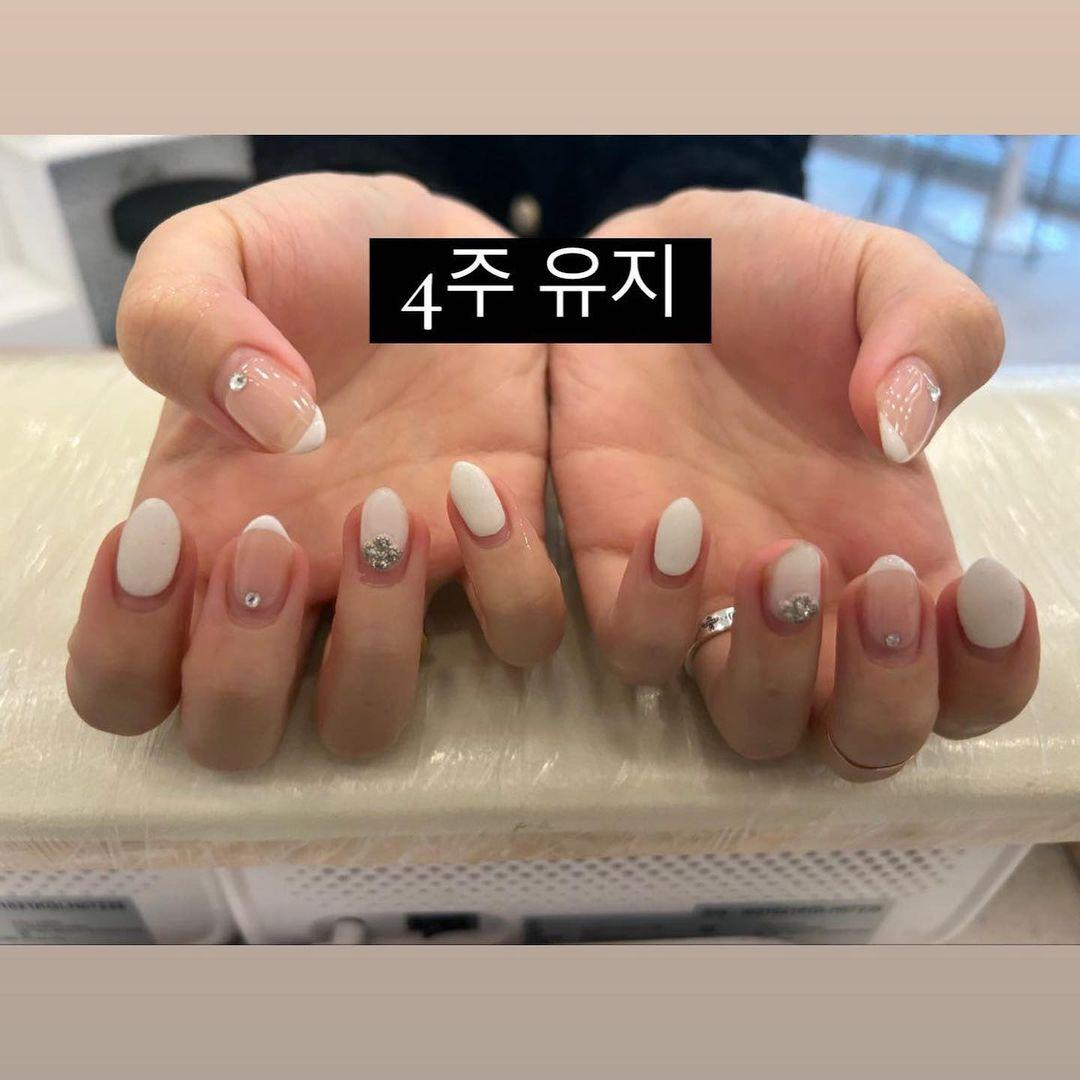nail: (212, 345, 326, 455), (872, 354, 942, 463), (114, 495, 182, 598), (855, 556, 921, 662), (228, 514, 294, 619), (954, 556, 1026, 651), (760, 542, 822, 631), (448, 459, 508, 543), (356, 485, 410, 578), (651, 495, 703, 579), (682, 604, 735, 680)
